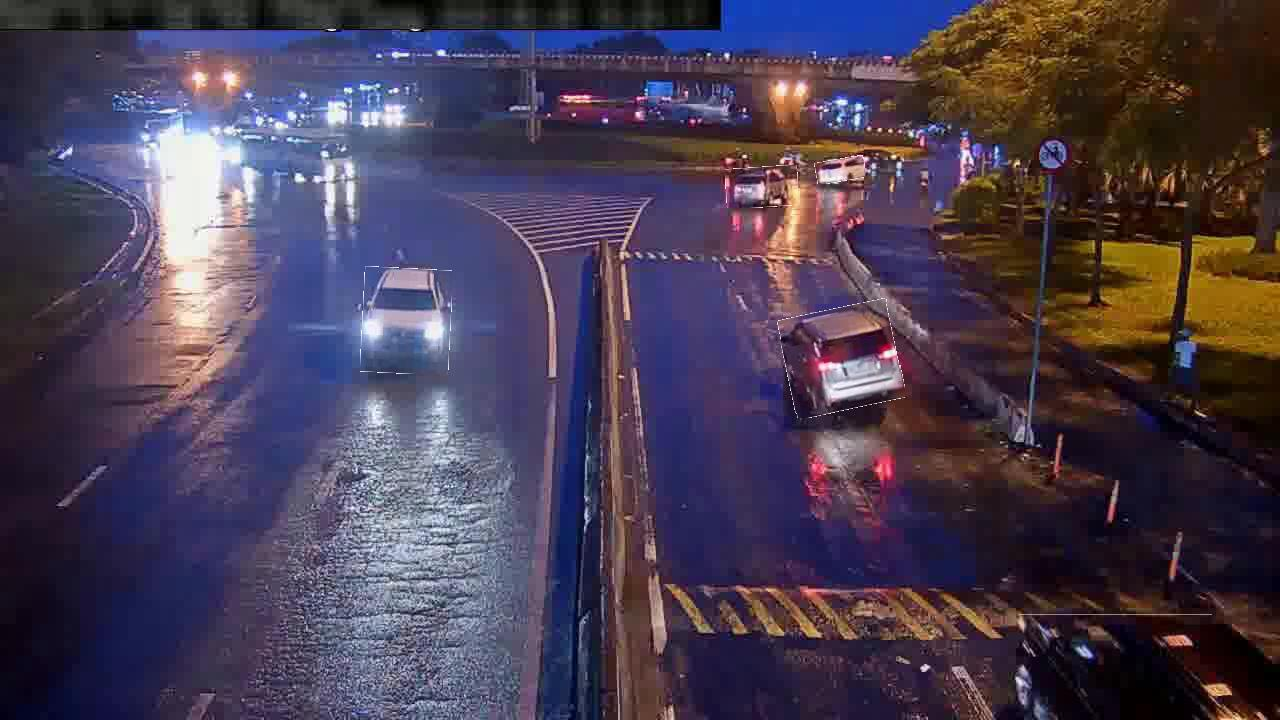container: (1019, 614, 1213, 719), (782, 303, 902, 414), (362, 267, 452, 374), (726, 166, 799, 208), (815, 157, 866, 183)
